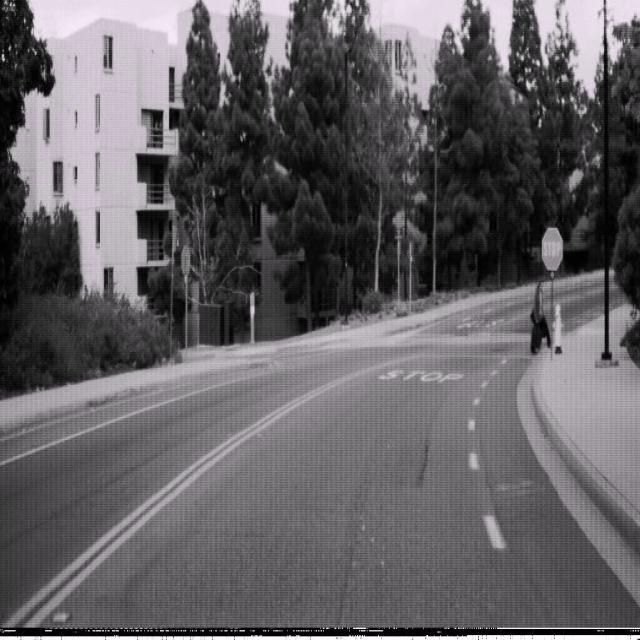stop: (541, 226, 563, 271)
